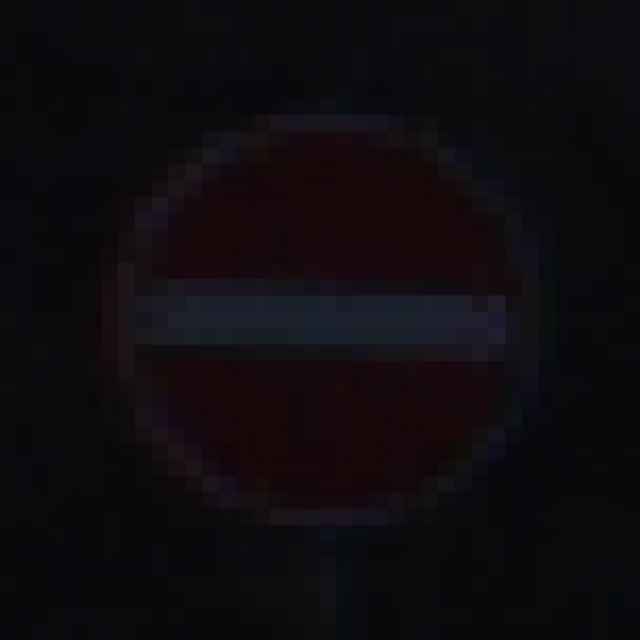No Entry: (85, 83, 557, 559)
